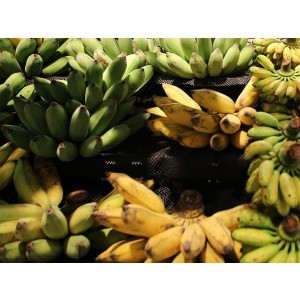banana_brain food: (25, 59, 121, 171), (152, 85, 254, 153), (136, 194, 240, 255)
